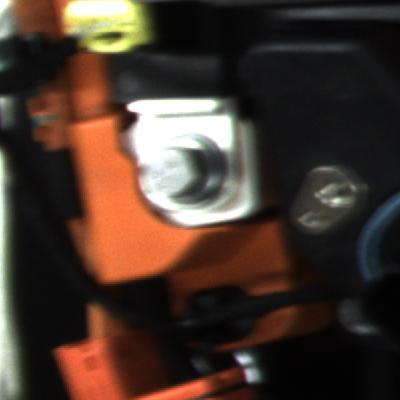nut_b: (131, 129, 234, 213)
